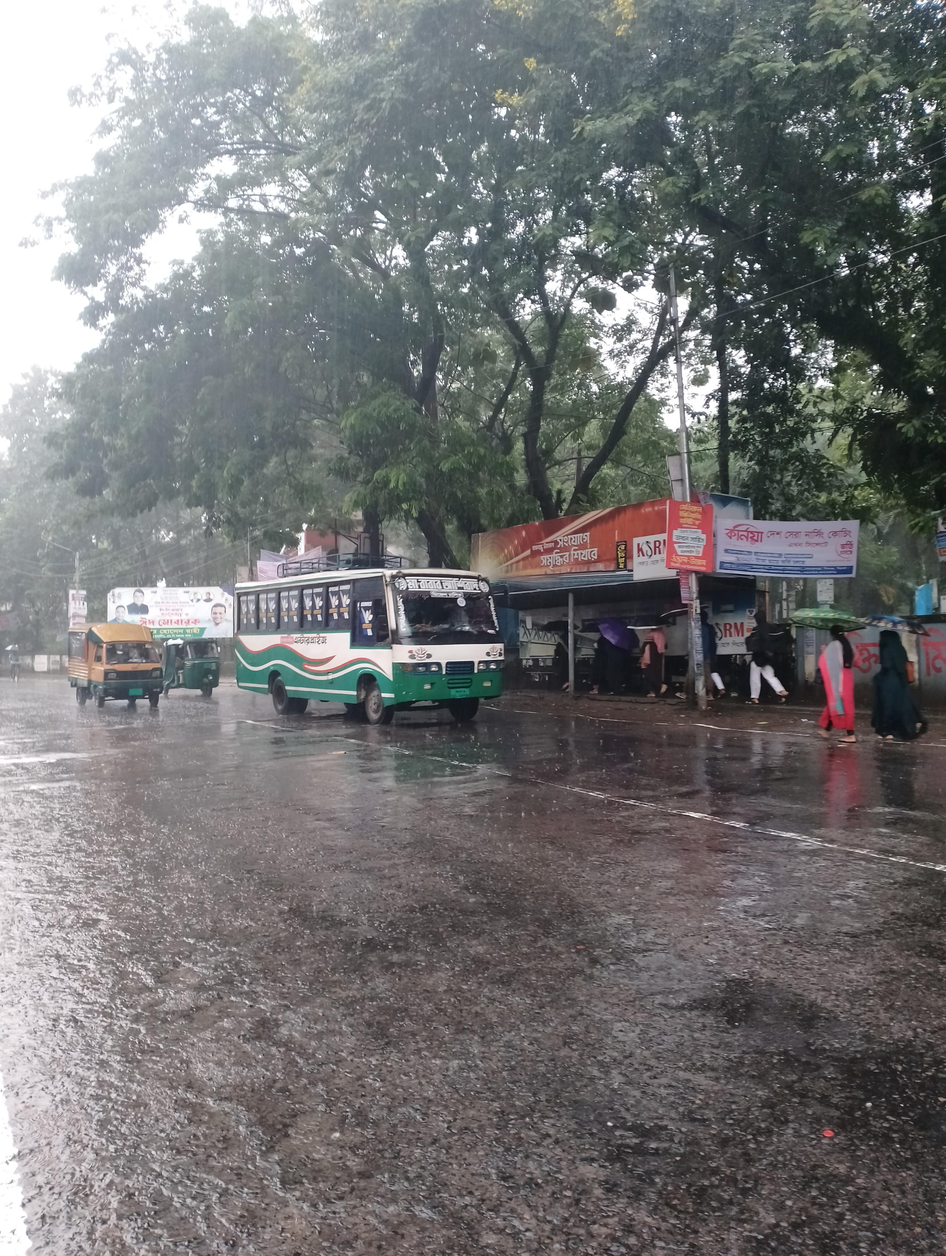Bus: (219, 524, 521, 747)
Car: (40, 609, 177, 722)
